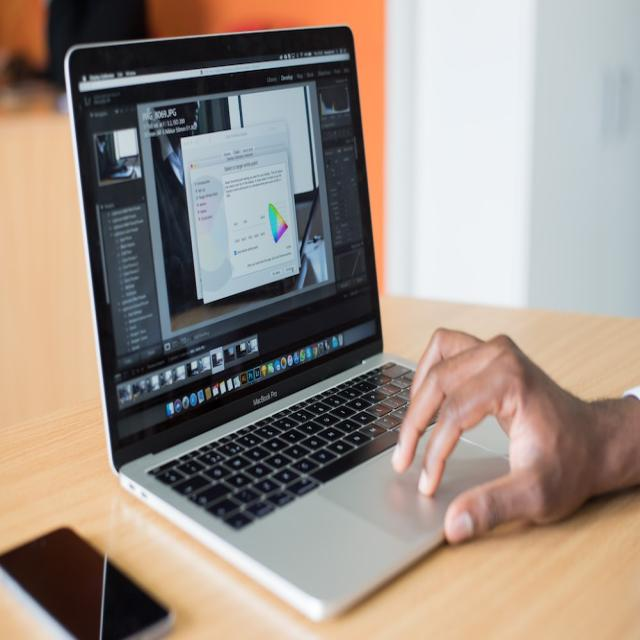keyboard-with-hands: (141, 357, 550, 601)
